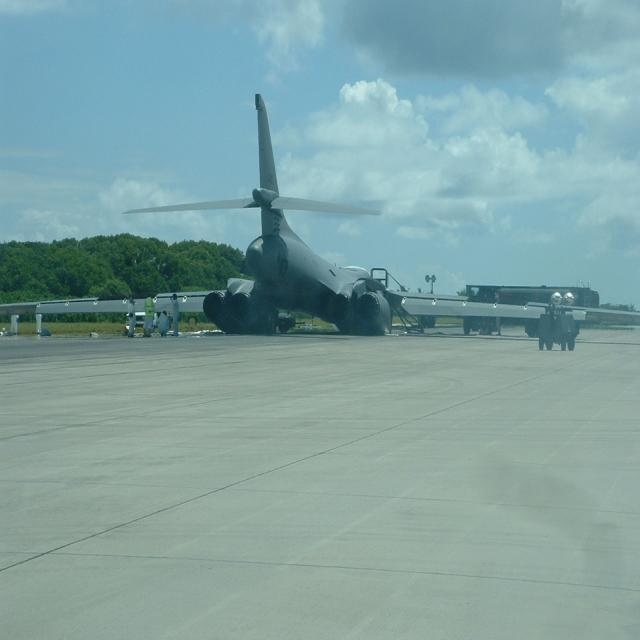MIL_Plane: (0, 93, 640, 335)
